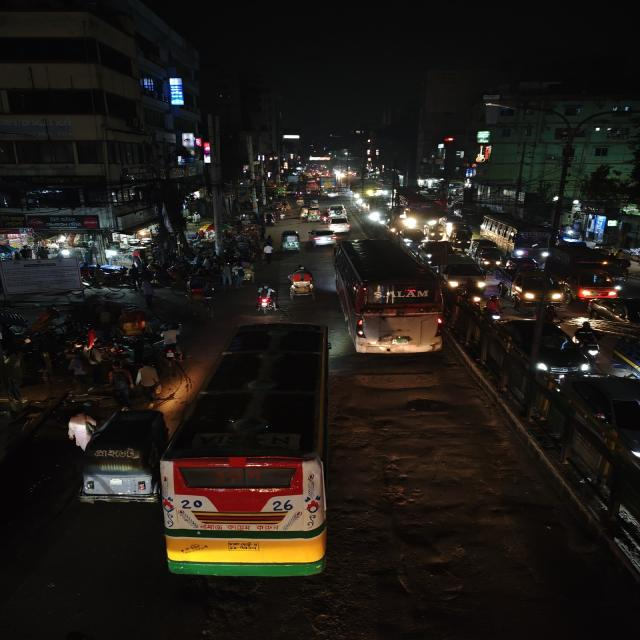bus: (161, 324, 335, 580), (331, 236, 445, 360), (77, 408, 166, 508), (481, 213, 551, 256), (395, 189, 441, 229)
car: (562, 373, 640, 475), (497, 317, 591, 380), (586, 294, 640, 337), (439, 258, 488, 292), (610, 328, 640, 382), (308, 228, 336, 248), (327, 217, 351, 233), (328, 203, 348, 219)
cng: (78, 408, 168, 508), (471, 239, 503, 269), (280, 229, 303, 253), (449, 230, 472, 252), (428, 224, 447, 242), (305, 207, 323, 223)
motorcycle: (158, 323, 186, 363), (476, 294, 506, 325), (253, 284, 279, 314)
pedestrian: (62, 408, 97, 451), (64, 352, 92, 392), (106, 364, 134, 402), (134, 362, 160, 398), (136, 274, 162, 306), (220, 261, 236, 288), (261, 241, 276, 265), (234, 266, 247, 290)
pickup_van: (498, 264, 564, 307)
rickshaw: (114, 305, 153, 337), (286, 263, 317, 300)
truck: (547, 244, 624, 298)
